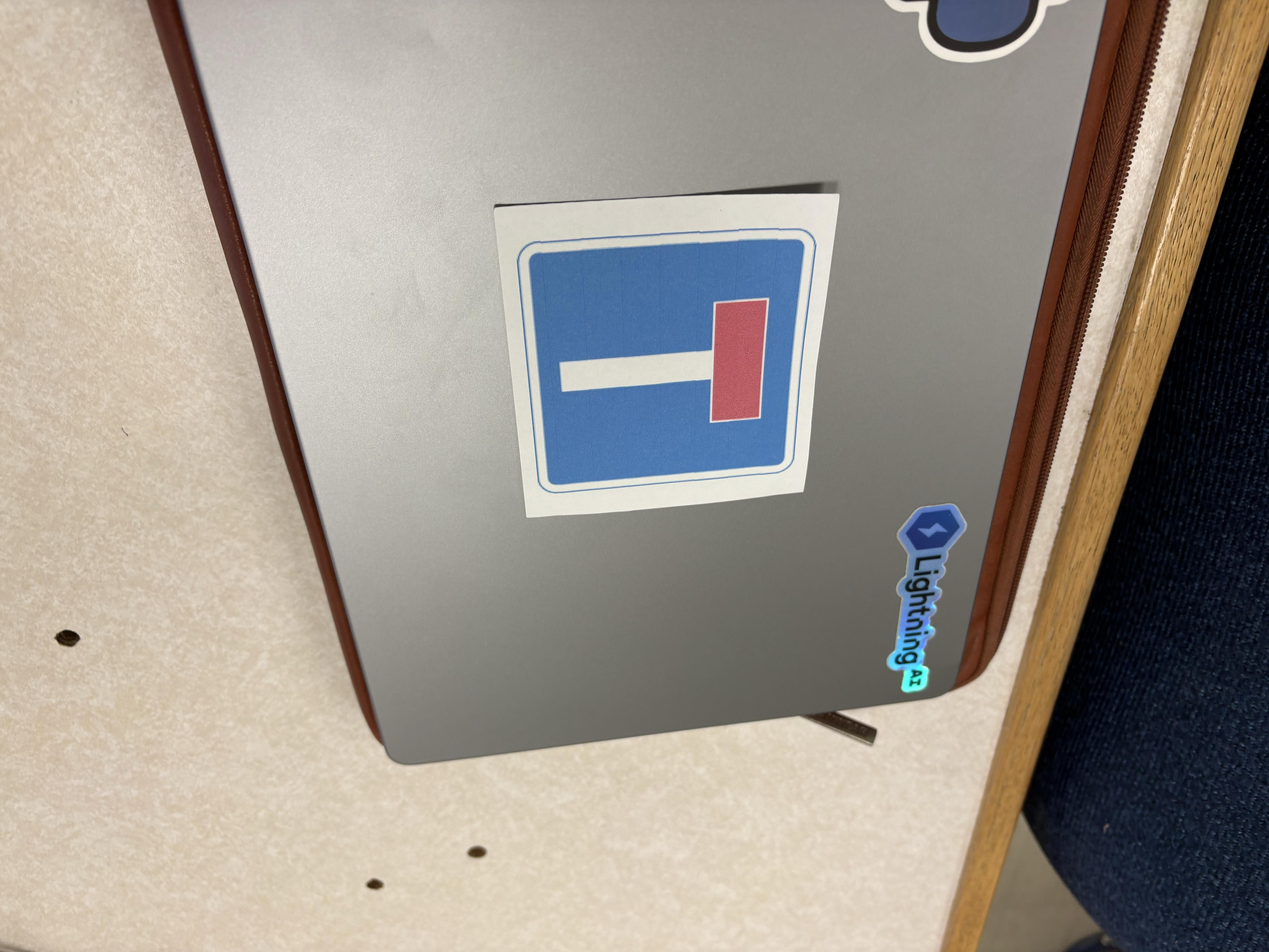Dead End: (497, 197, 842, 517)
